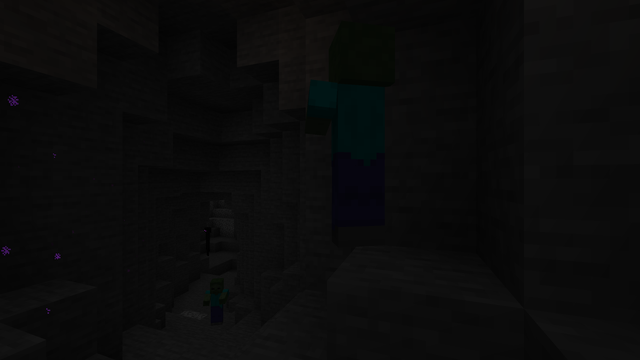endermens: (203, 226, 212, 256)
zombies: (320, 19, 393, 253), (207, 278, 226, 328)
